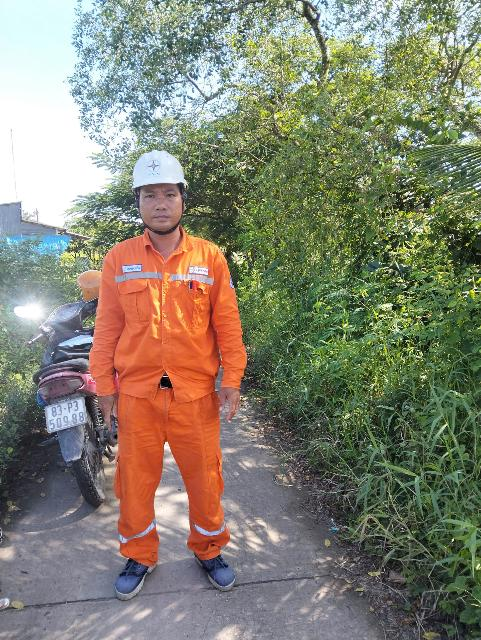helmet: (121, 140, 197, 198)
shoes: (174, 536, 246, 594), (94, 538, 156, 602)
